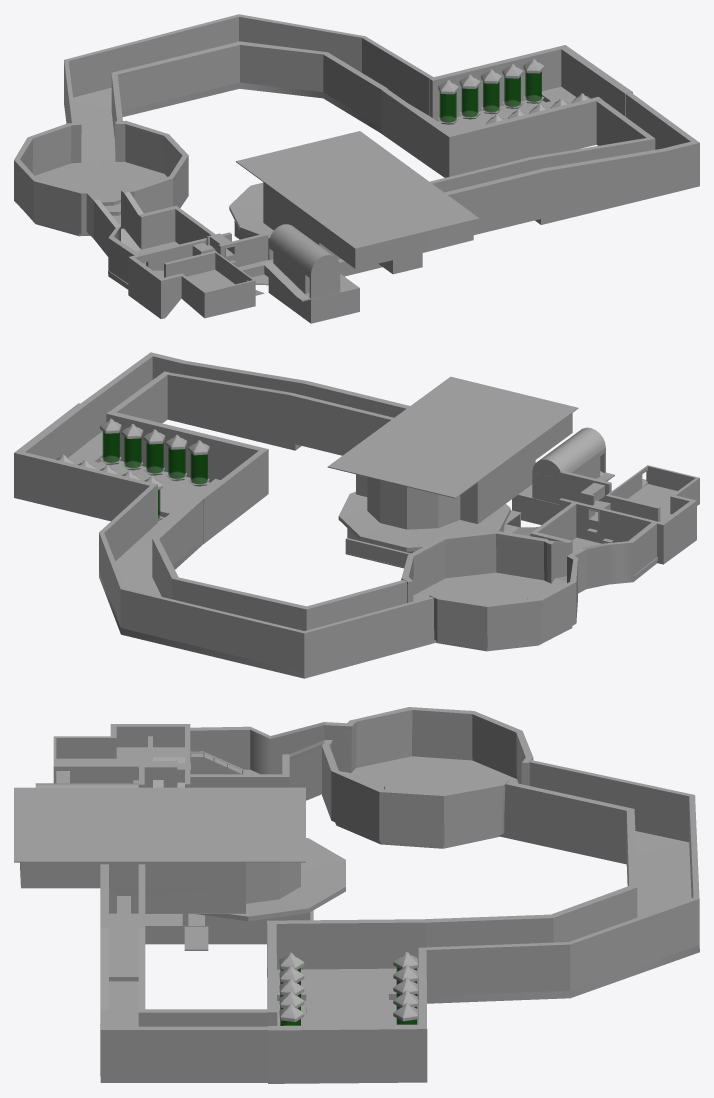
File: Environment (Separated).fbx
The picture shows the model from 3 angles, top to bottom: view 1: azimuth 30°, elevation 25°; view 2: azimuth 150°, elevation 25°; view 3: azimuth 270°, elevation 25°; orthographic projection. The views are drawn at different scales.
Parts seen in each view (by area): view 1: Hallway_1, Hallway_2, polySurface1, polySurface79, polySurface36, polySurface37, polySurface41, polySurface68, polySurface299, polySurface297, polySurface33, polySurface85 (+12 smaller); view 2: Hallway_1, Hallway_2, polySurface1, polySurface79, polySurface36, polySurface37, polySurface68, polySurface41, polySurface85, polySurface33, polySurface297, polySurface299 (+9 smaller); view 3: Hallway_1, polySurface1, polySurface79, Hallway_2, polySurface36, polySurface37, polySurface68, polySurface41, polySurface85, polySurface33, polySurface296, polySurface43 (+5 smaller).
Part boxes in pixels (x1=…): Hallway_1: x1=64, y1=14, x2=433, y2=162; Hallway_2: x1=430, y1=92, x2=699, y2=234; polySurface1: x1=381, y1=45, x2=632, y2=177; polySurface79: x1=236, y1=131, x2=479, y2=249; polySurface36: x1=14, y1=122, x2=139, y2=289; polySurface37: x1=115, y1=120, x2=214, y2=249; polySurface41: x1=128, y1=232, x2=255, y2=318; polySurface68: x1=263, y1=182, x2=473, y2=274; polySurface299: x1=268, y1=251, x2=359, y2=323; polySurface297: x1=268, y1=224, x2=339, y2=274; polySurface33: x1=25, y1=161, x2=166, y2=236; polySurface85: x1=229, y1=182, x2=273, y2=241; Hallway_1: x1=99, y1=485, x2=436, y2=678; Hallway_2: x1=81, y1=352, x2=409, y2=455; polySurface1: x1=14, y1=403, x2=268, y2=543; polySurface79: x1=327, y1=376, x2=578, y2=498; polySurface36: x1=429, y1=522, x2=656, y2=648; polySurface37: x1=401, y1=503, x2=576, y2=602; polySurface68: x1=356, y1=413, x2=572, y2=529; polySurface41: x1=559, y1=465, x2=699, y2=564; polySurface85: x1=338, y1=491, x2=510, y2=551; polySurface33: x1=413, y1=572, x2=572, y2=651; polySurface297: x1=532, y1=427, x2=605, y2=478; polySurface299: x1=512, y1=456, x2=600, y2=524; Hallway_1: x1=425, y1=760, x2=699, y2=1003; polySurface1: x1=267, y1=919, x2=427, y2=1083; polySurface79: x1=14, y1=787, x2=305, y2=862; Hallway_2: x1=100, y1=864, x2=267, y2=1082; polySurface36: x1=190, y1=707, x2=533, y2=785; polySurface37: x1=190, y1=740, x2=508, y2=845; polySurface68: x1=20, y1=862, x2=300, y2=913; polySurface41: x1=53, y1=724, x2=190, y2=787; polySurface85: x1=196, y1=838, x2=345, y2=921; polySurface33: x1=335, y1=756, x2=518, y2=848; polySurface296: x1=145, y1=926, x2=266, y2=950; polySurface43: x1=56, y1=747, x2=184, y2=787.
Size of the model in its own units: 164 by 22.48 by 147.
